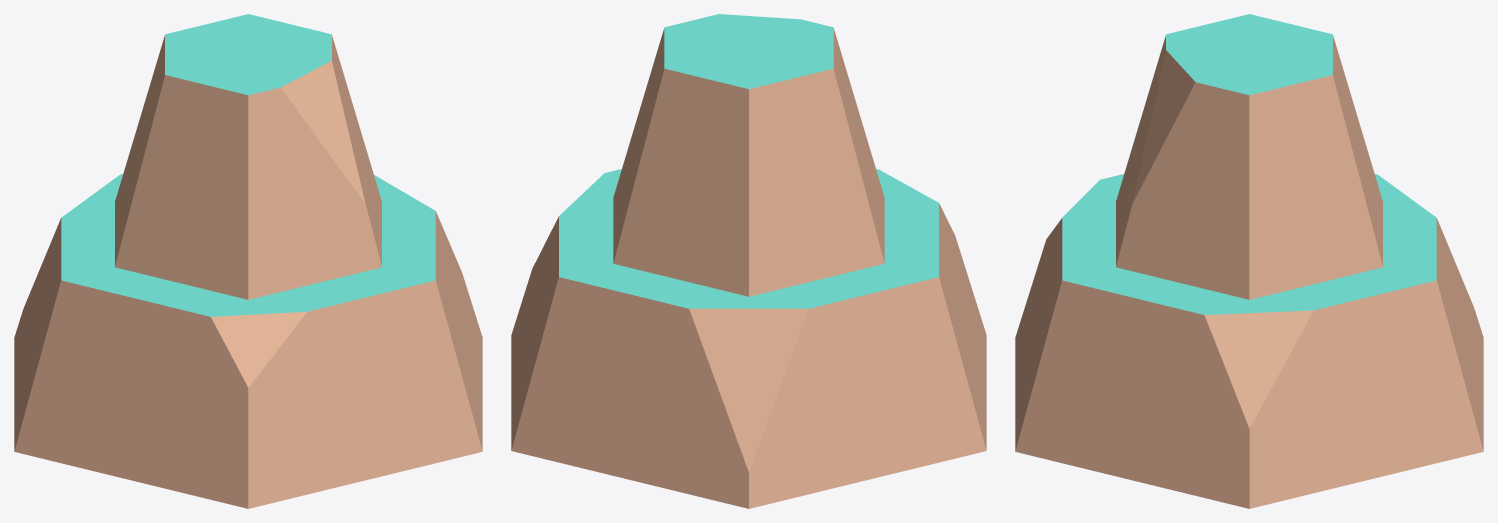
The model's file is rock_smallF.glb.
3 renders of one model, left to right at view 1: azimuth 30°, elevation 25°; view 2: azimuth 150°, elevation 25°; view 3: azimuth 270°, elevation 25°, orthographic.
Visible parts, largest first — view 1: rock_smallF; view 2: rock_smallF; view 3: rock_smallF.
Boxes of the visible parts, x1,y1,x2,y2 form: rock_smallF: [14, 14, 482, 508]; rock_smallF: [511, 14, 986, 508]; rock_smallF: [1015, 14, 1483, 508].
Bounding box in the file's own units: 0.3536 × 0.2453 × 0.3062.
Materials: 1 (1 with a texture image).
